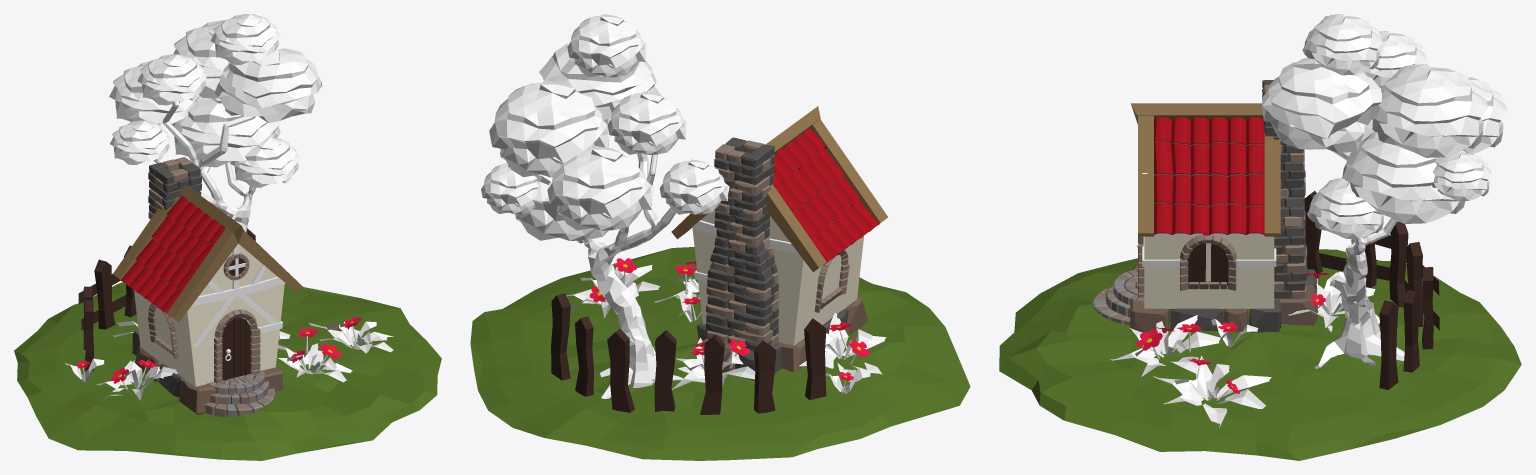
File: house.glb
3 views of the same model, side by side, from view 1: azimuth 30°, elevation 25°; view 2: azimuth 150°, elevation 25°; view 3: azimuth 270°, elevation 25° (orthographic). The views are drawn at different scales.
Visible parts, largest first — view 1: Sphere.001, Wall, Roof, Icosphere.001, roof Frame, Icosphere.006, Door, Icosphere, Icosphere.008, Trunk, Icosphere.007, Icosphere.005 (+14 smaller); view 2: Sphere.001, Chiminy, Icosphere.002, Roof, Icosphere.005, Wall, Trunk, roof Frame, Icosphere, Icosphere.008, Icosphere.001, Icosphere.003 (+15 smaller); view 3: Sphere.001, Roof, Icosphere.001, Icosphere.002, Wall, Icosphere.006, roof Frame, Chiminy, Trunk, Floor, Icosphere.008, Icosphere.007 (+18 smaller).
Part boxes in pixels (x1,y1,x2,y2): Sphere.001: (14,282,441,460); Wall: (134,222,284,386); Roof: (121,196,225,315); Icosphere.001: (214,48,322,123); roof Frame: (113,184,302,322); Icosphere.006: (171,96,280,167); Door: (214,309,260,383); Icosphere: (137,54,207,105); Icosphere.008: (210,14,280,64); Trunk: (154,101,255,232); Icosphere.007: (230,137,300,187); Icosphere.005: (109,62,199,124); Sphere.001: (470,247,970,460); Chiminy: (706,137,778,350); Icosphere.002: (489,80,610,177); Roof: (772,128,879,264); Icosphere.005: (547,146,654,230); Wall: (692,164,864,345); Trunk: (577,153,690,398); roof Frame: (671,106,887,272); Icosphere: (607,91,687,154); Icosphere.008: (567,14,647,77); Icosphere.001: (539,43,660,123); Icosphere.003: (659,159,729,214); Sphere.001: (999,249,1521,460); Roof: (1154,117,1264,235); Icosphere.001: (1261,58,1381,153); Icosphere.002: (1372,64,1487,157); Wall: (1144,140,1274,308); Icosphere.006: (1342,132,1465,223); roof Frame: (1131,103,1280,236); Chiminy: (1262,80,1307,298); Trunk: (1315,150,1404,368); Floor: (1130,263,1317,332); Icosphere.008: (1302,14,1382,75); Icosphere.007: (1307,178,1383,238).
Bounding box in the file's own units: 18.8 × 14.73 × 18.63.
